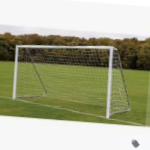goals: (12, 41, 134, 119)
